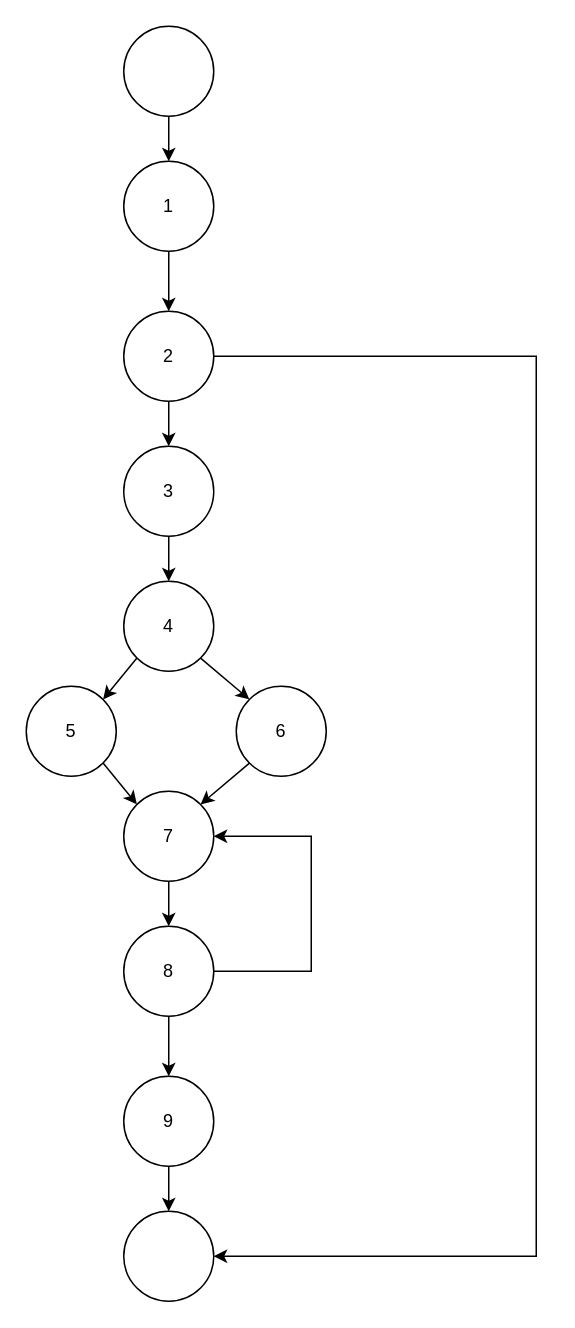
Image size: 575x1328. Some labels were removed from this diagram. Here are the shapes that lost their labels. From the top down, the box of each, then its label:
(122, 25, 214, 116): Start
(122, 1210, 214, 1301): End
